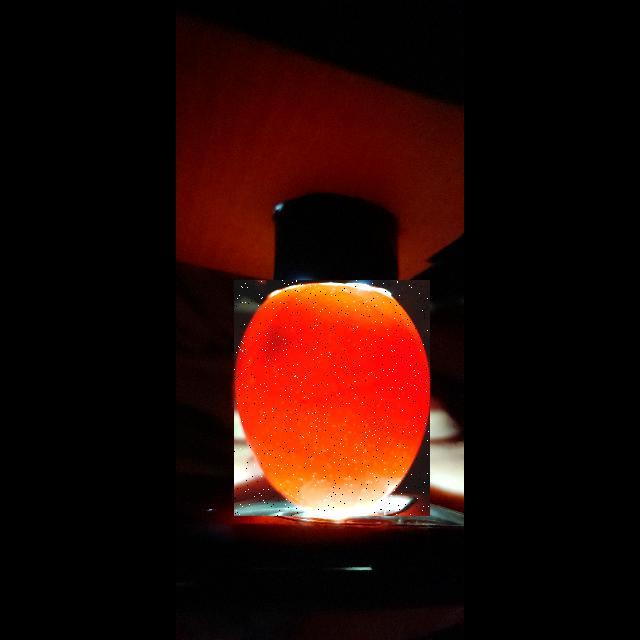Fertile: (234, 280, 430, 516)
